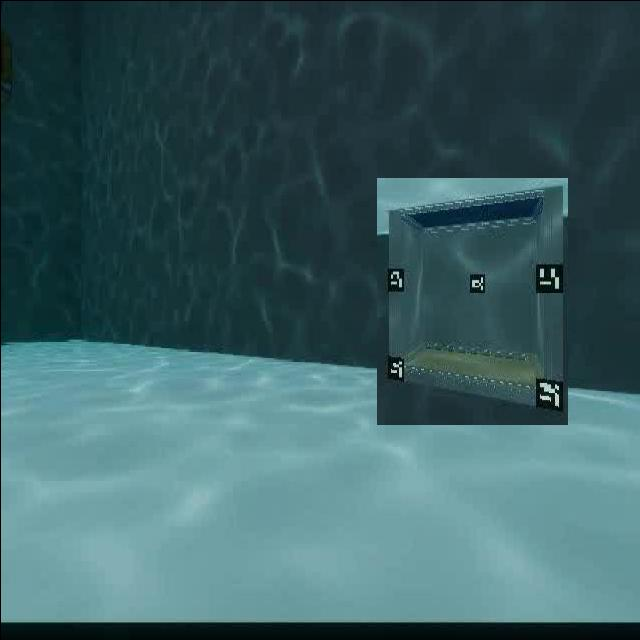Docking Station: (376, 178, 567, 426)
